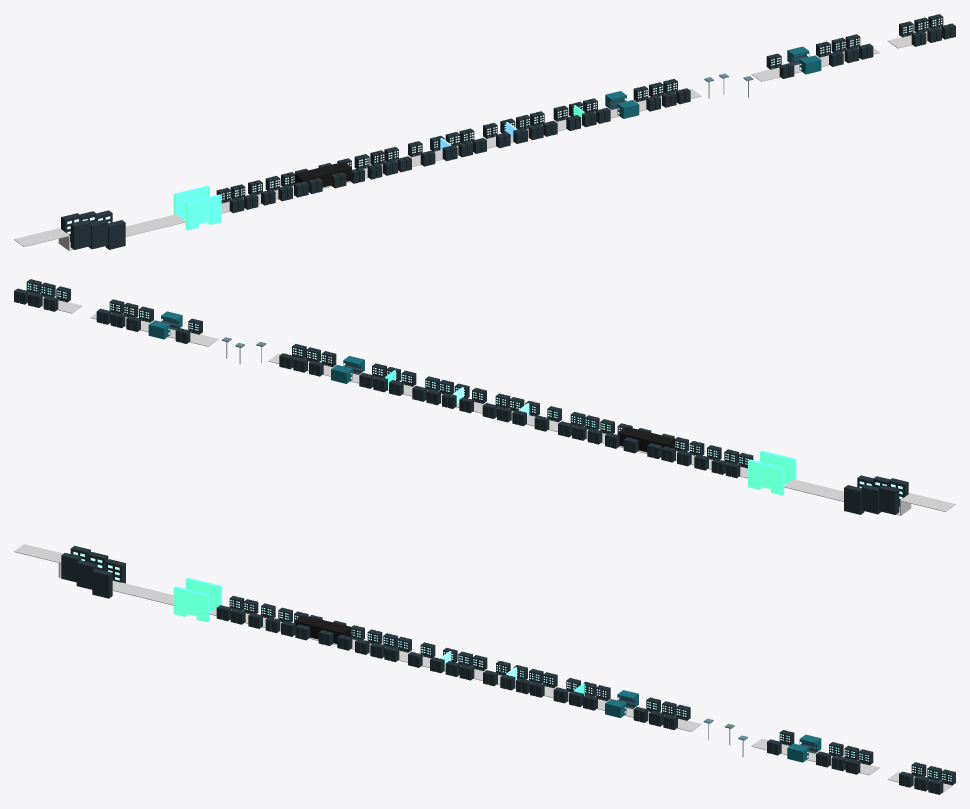
Rendered from Ground.fbx.
3 views of the same model, one above another, from view 1: azimuth 30°, elevation 25°; view 2: azimuth 150°, elevation 25°; view 3: azimuth 330°, elevation 25° (orthographic).
Visible parts, largest first — view 1: Cube, WallMid.001, Tunnel01, WallMid.002, Building01.132; view 2: Cube, WallMid.002, Tunnel01, WallMid.001, Building01.133; view 3: Cube, WallMid.001, Tunnel01, WallMid.002, Building01.128.
Boxes of the visible parts, <box> form: Cube: <box>14,28,941,250</box>; WallMid.001: <box>185,194,221,230</box>; Tunnel01: <box>294,162,351,187</box>; WallMid.002: <box>173,185,209,219</box>; Building01.132: <box>70,220,90,249</box>; Cube: <box>28,293,955,515</box>; WallMid.002: <box>748,459,784,495</box>; Tunnel01: <box>618,426,675,452</box>; WallMid.001: <box>760,450,796,484</box>; Building01.133: <box>879,485,899,514</box>; Cube: <box>14,544,952,793</box>; WallMid.001: <box>173,586,209,622</box>; Tunnel01: <box>294,615,351,643</box>; WallMid.002: <box>185,577,221,611</box>; Building01.128: <box>92,568,112,598</box>.
Bounding box in the file's own units: 178229 × 7144 × 6109.
